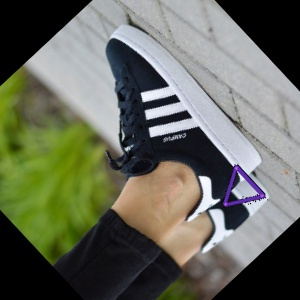triangle: (222, 163, 267, 207)
